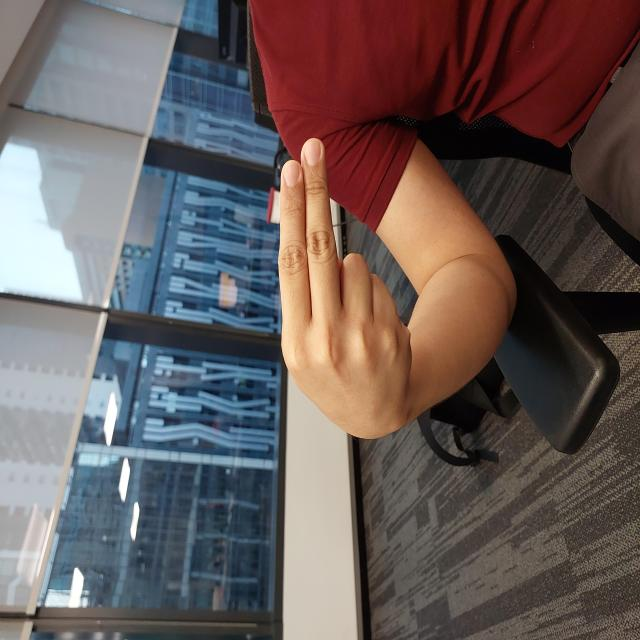H: (200, 277, 504, 413)
